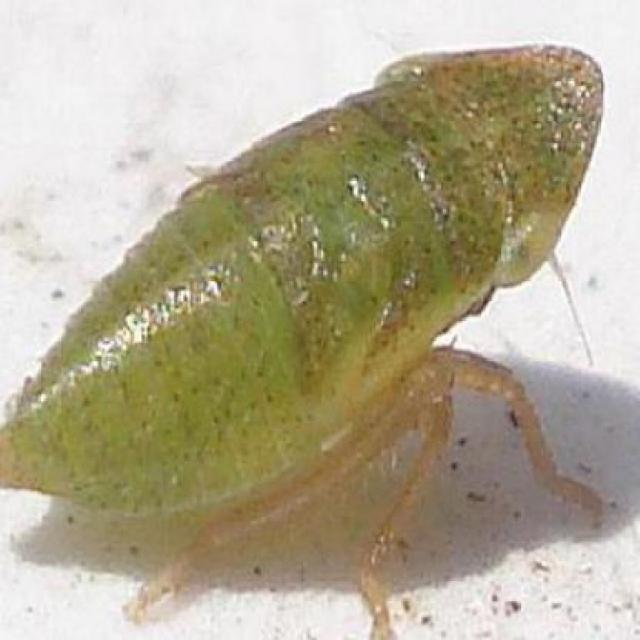green-leafhopper: (3, 41, 591, 588)
